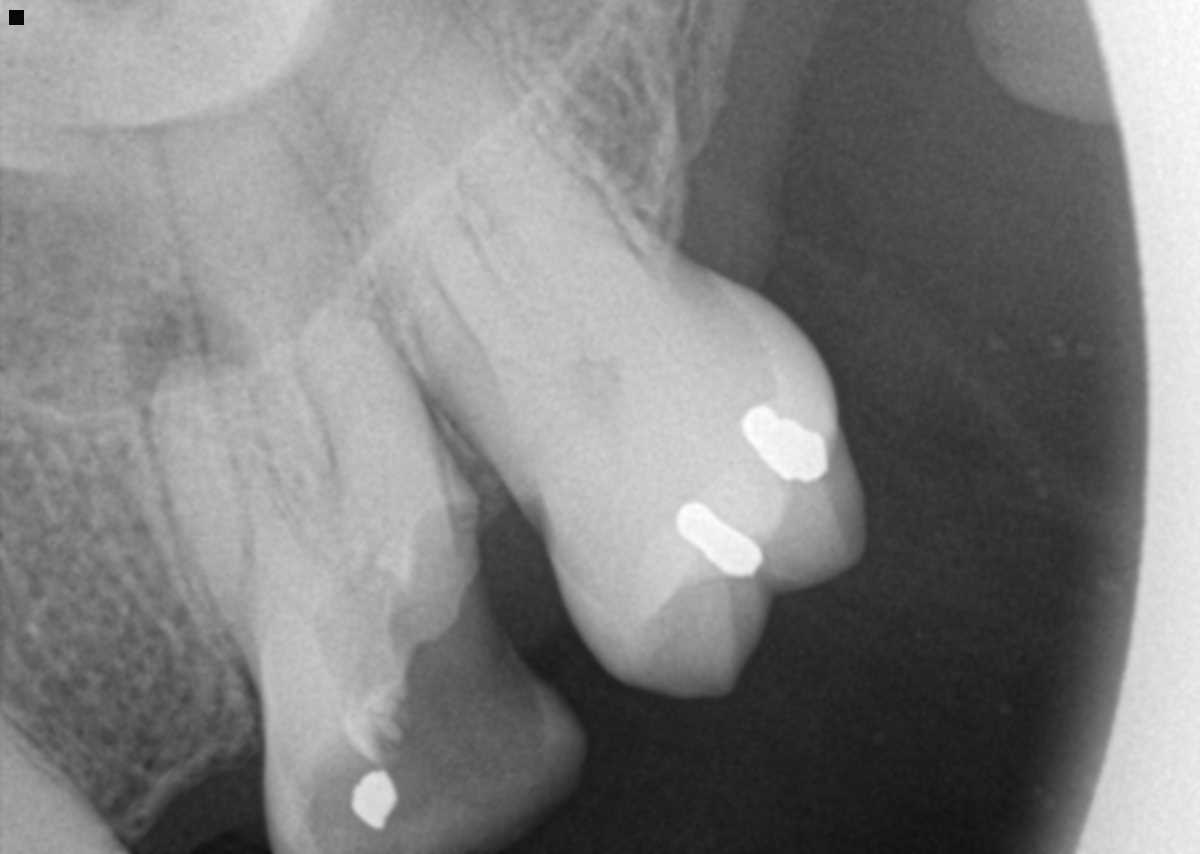Apical Lesion: (120, 287, 266, 414)
Distal Root: (446, 5, 652, 339), (295, 306, 475, 544)
Mesial Root: (361, 33, 553, 451), (154, 361, 340, 663)
Palatal Root: (143, 33, 466, 589), (271, 0, 647, 385)
decay: (306, 506, 548, 854)
